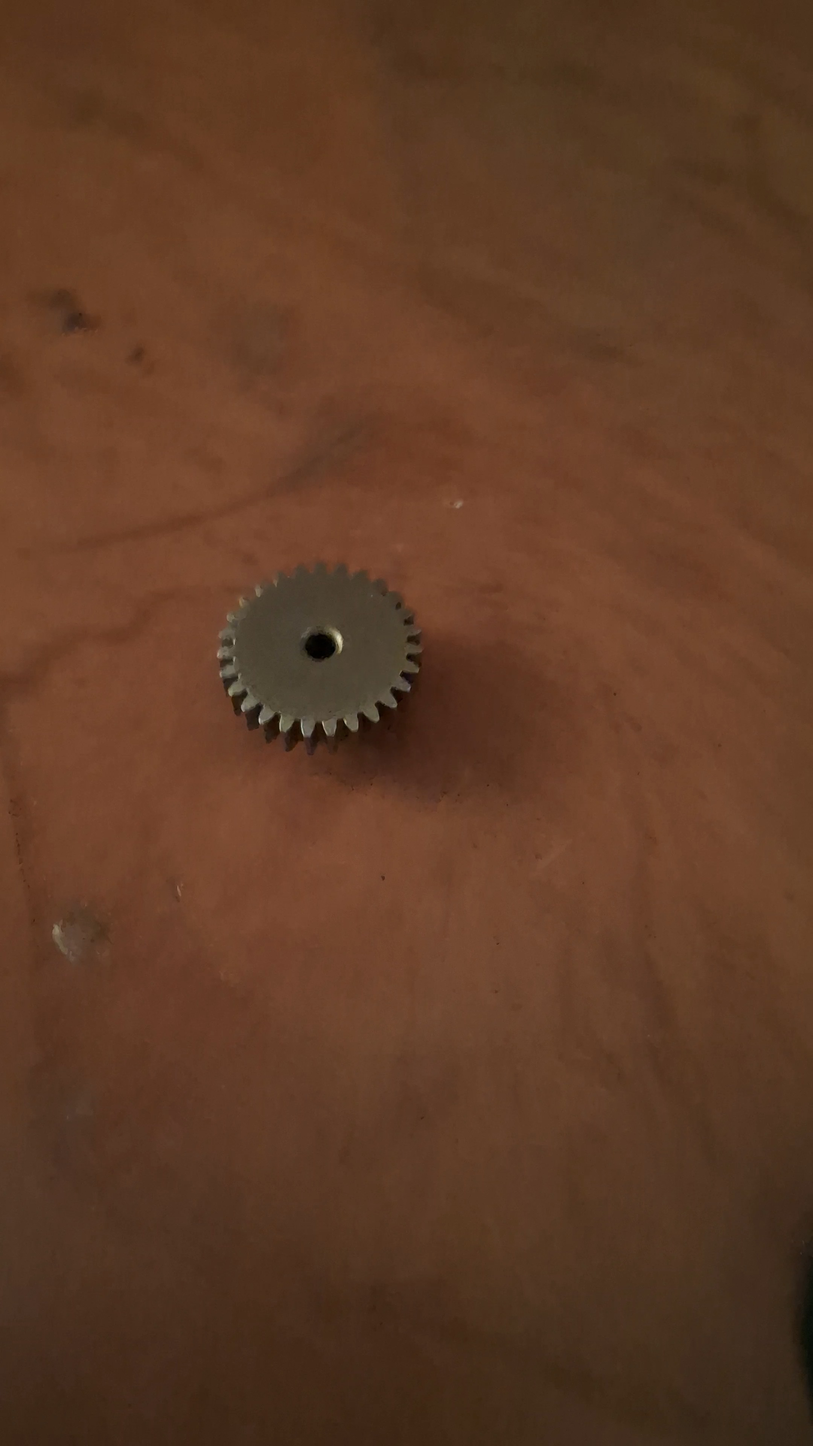spur gear: (218, 564, 421, 751)
